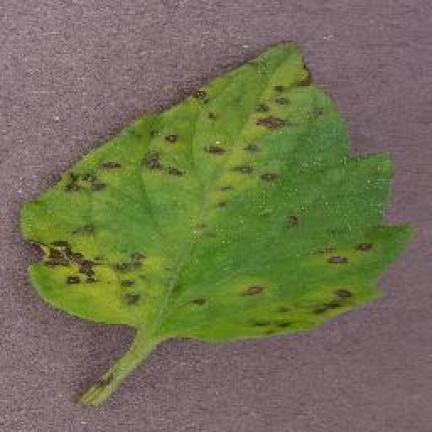disease: (22, 46, 408, 403)
leaf: (192, 89, 206, 98)
